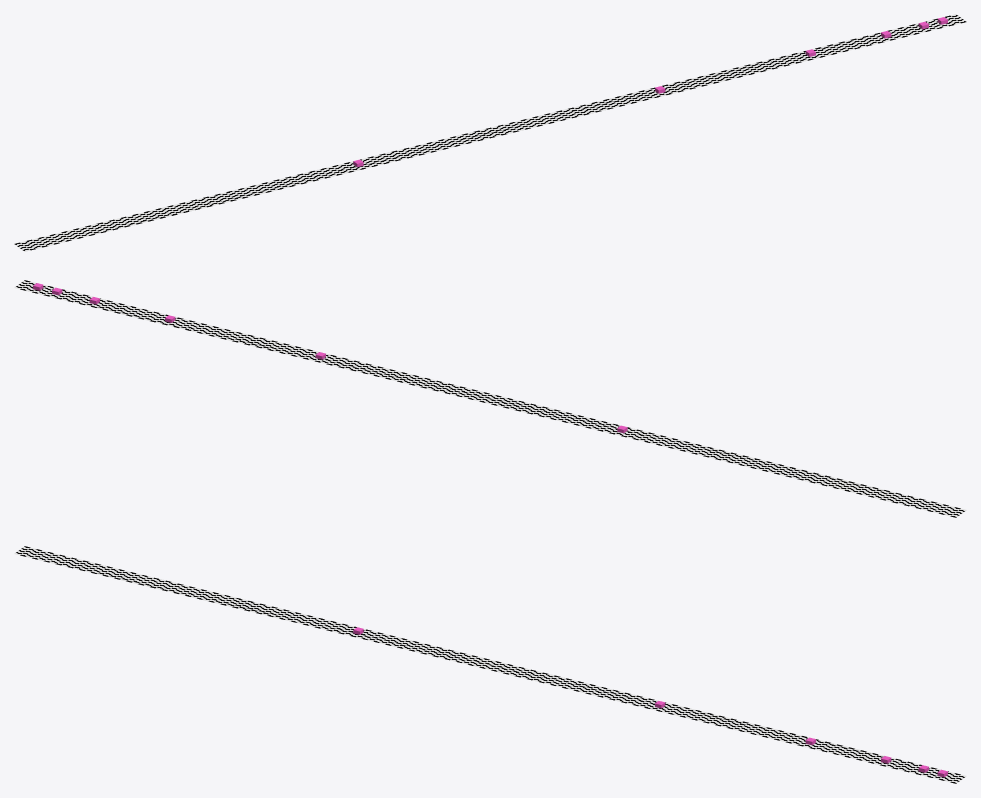
Rendered from dof-reference.gltf.
The picture shows the model from 3 angles, top to bottom: view 1: azimuth 30°, elevation 25°; view 2: azimuth 150°, elevation 25°; view 3: azimuth 330°, elevation 25°; orthographic projection.
Parts seen in each view (by area): view 1: Plane; view 2: Plane; view 3: Plane.
Boxes of the visible parts, x1,y1,x2,y2 form: Plane: (14,14,966,251); Plane: (14,280,966,517); Plane: (14,546,966,783).
Size of the model in its own units: 100 by 0.7 by 2.
Materials: 2 (1 with a texture image).
